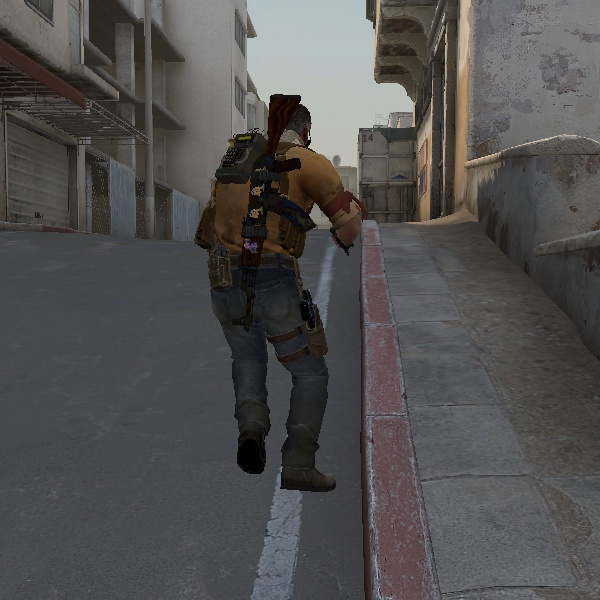t_body: (165, 79, 386, 501)
t_head: (264, 92, 326, 158)
